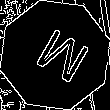M_SW: (22, 22, 88, 88)
